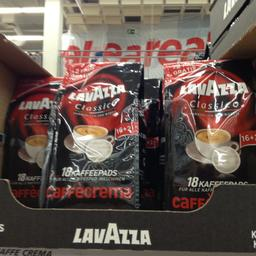coffee: (39, 60, 144, 206), (156, 55, 254, 209), (2, 72, 60, 203)
